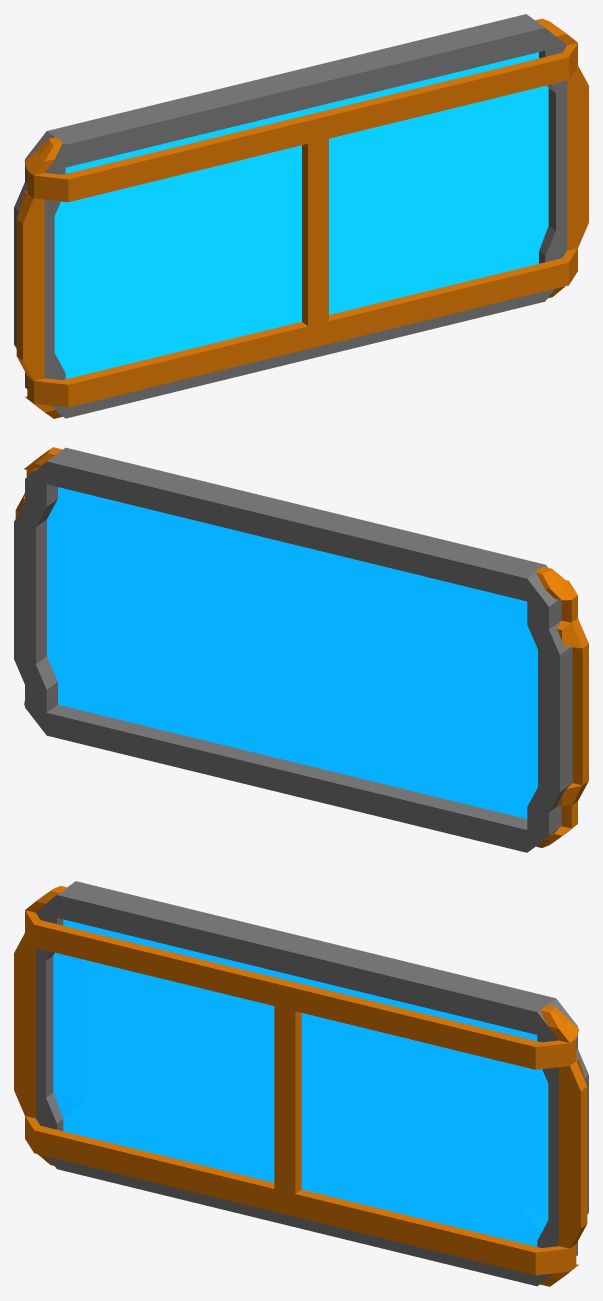
Rendered from DisplayScreenWide_0.glb.
3 renders of one model, top to bottom at view 1: azimuth 30°, elevation 25°; view 2: azimuth 150°, elevation 25°; view 3: azimuth 330°, elevation 25°, orthographic.
Parts seen in each view (by area): view 1: Screen, Frame1, Frame0; view 2: Screen, Frame0, Frame1; view 3: Screen, Frame1, Frame0.
Boxes of the visible parts, bbox=[...] form: Screen: bbox=[54, 52, 548, 378]; Frame1: bbox=[16, 18, 588, 418]; Frame0: bbox=[14, 14, 567, 418]; Screen: bbox=[47, 487, 537, 818]; Frame0: bbox=[14, 447, 572, 852]; Frame1: bbox=[15, 447, 588, 847]; Screen: bbox=[53, 919, 548, 1246]; Frame1: bbox=[14, 886, 587, 1286]; Frame0: bbox=[36, 881, 588, 1286].
Size of what is drawn, in the model's own units: 5.19 by 2.4 by 0.5021.
